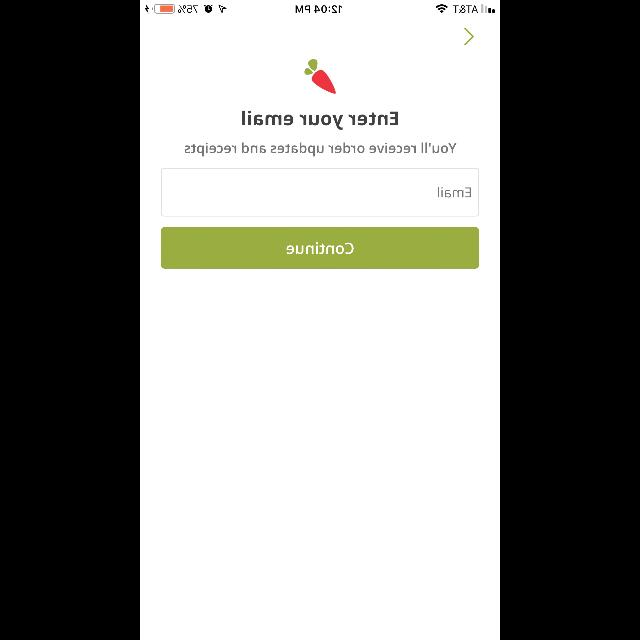icon: (464, 28, 474, 46)
image: (304, 60, 336, 94)
input: (161, 168, 479, 216)
text: (184, 143, 456, 157), (242, 110, 398, 130), (438, 186, 470, 198)
textbutton: (161, 227, 479, 269)
uppertaskbar: (140, 0, 500, 14)
